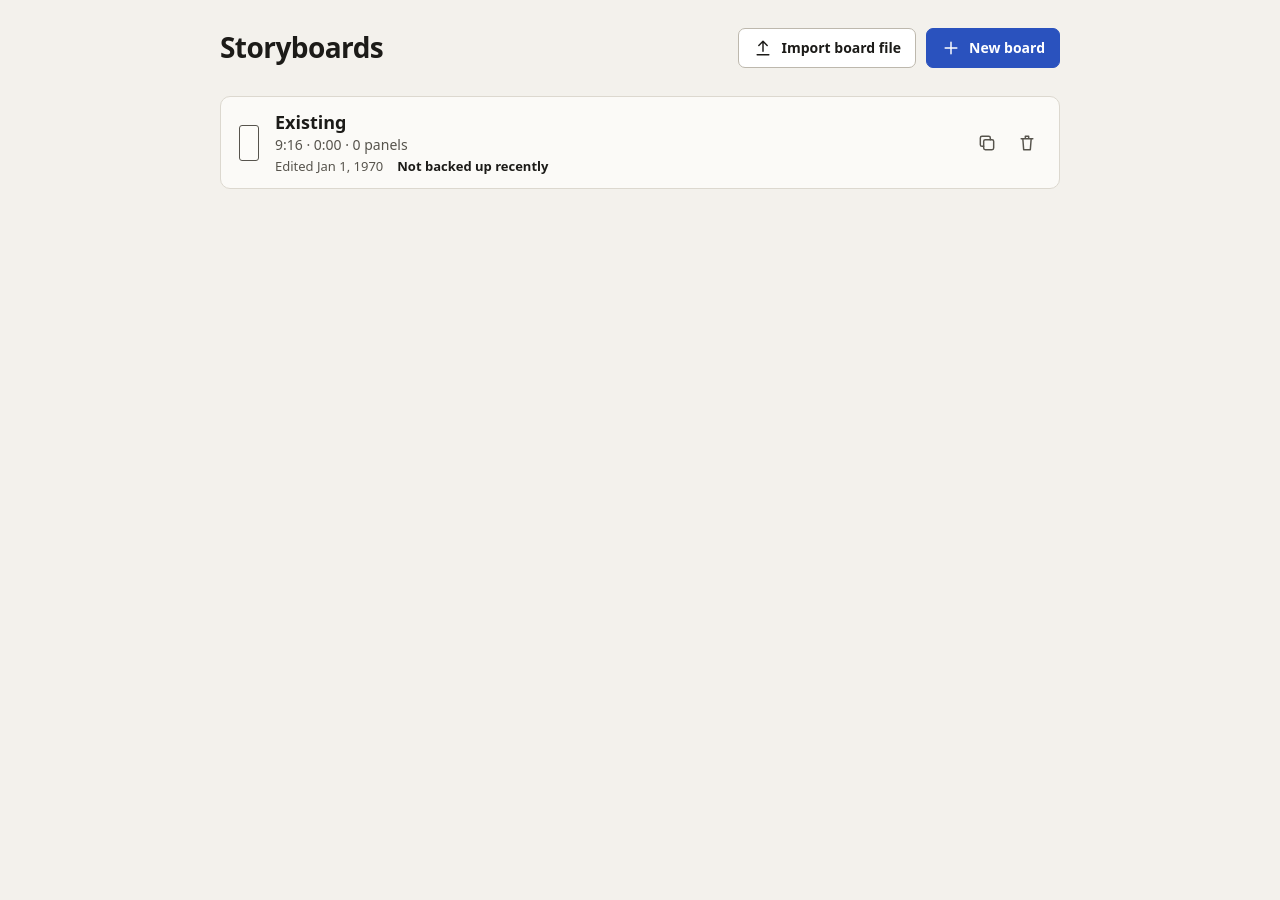
Test: creating a board when storage refuses says so and stays on the dialog
The width and height of the screenshot is (1280, 900).
Click the button "New board": point(993, 48) [926, 28, 1060, 68]
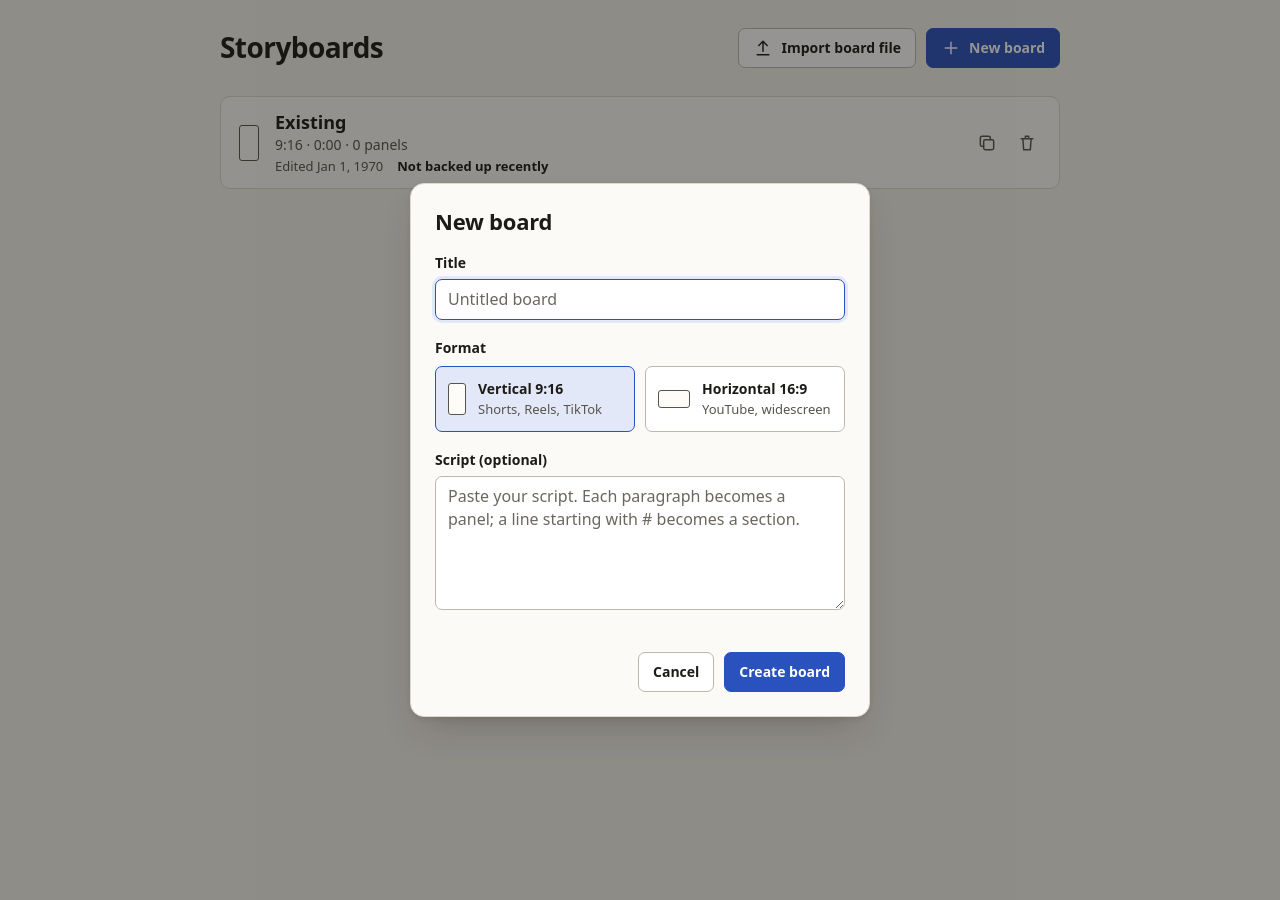
In the field labelled "Title": point(640, 300) [435, 279, 845, 320], type "Launch"
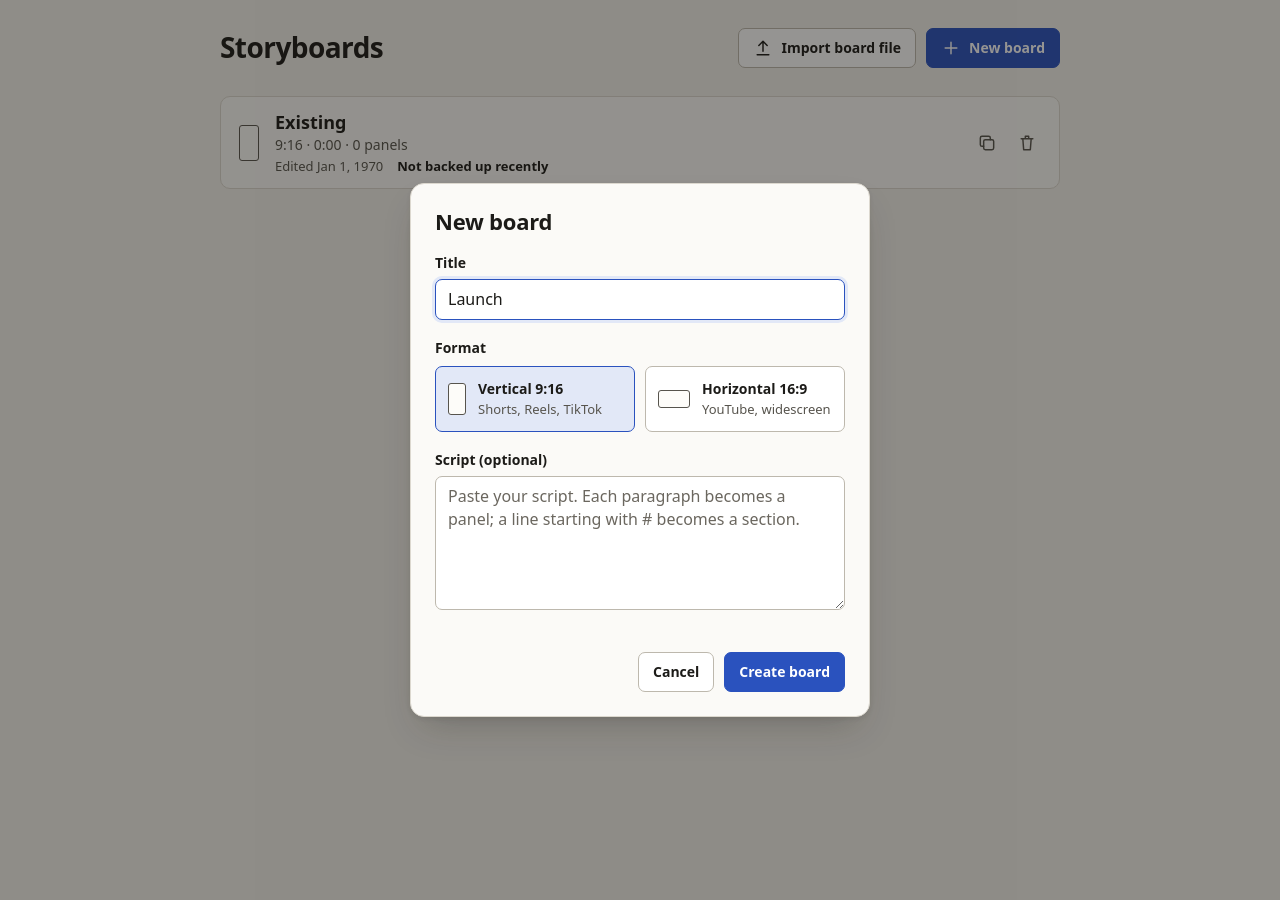
Click the button "Create board": point(785, 672) [724, 652, 845, 692]
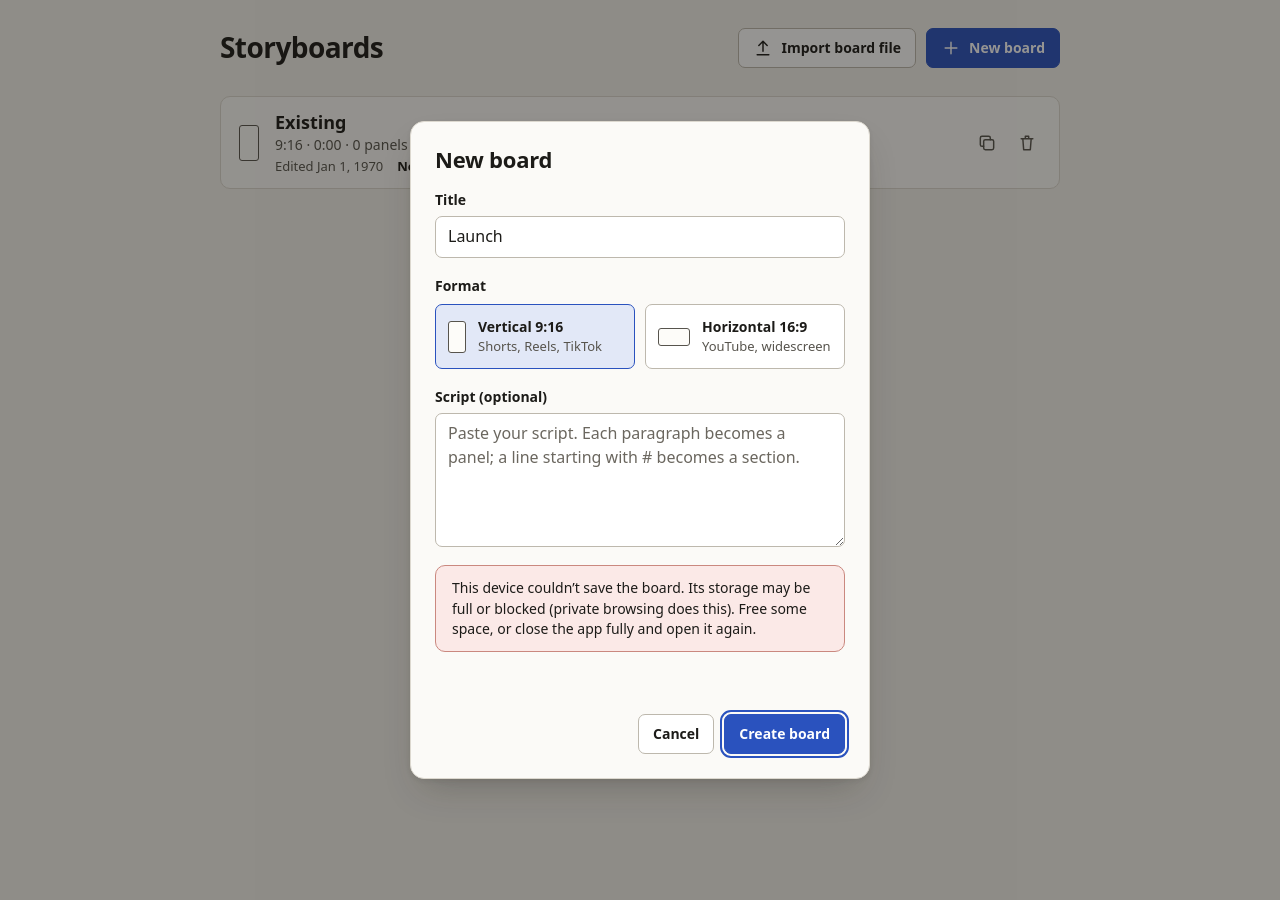
Check: the message shows "couldn’t save", box [452, 578, 810, 638]
